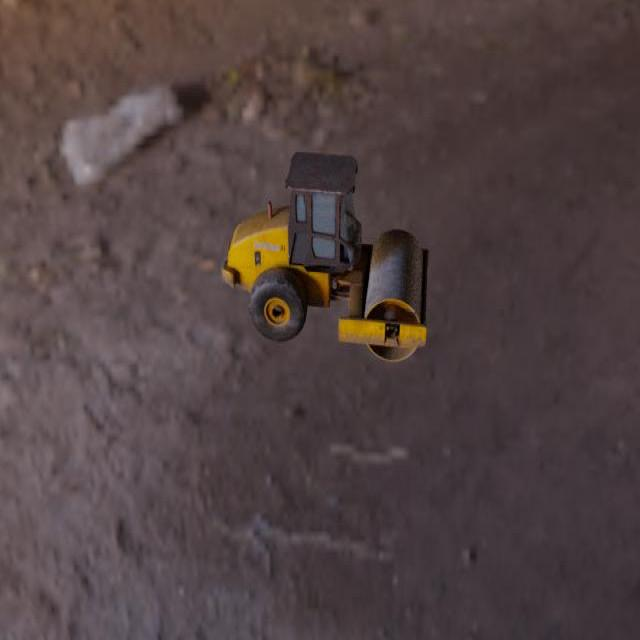Roller: (222, 151, 429, 361)
